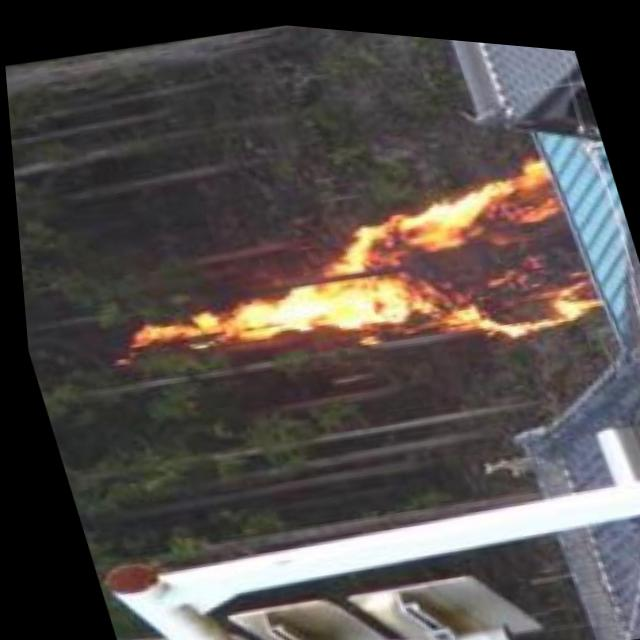Fire: (99, 123, 612, 421)
